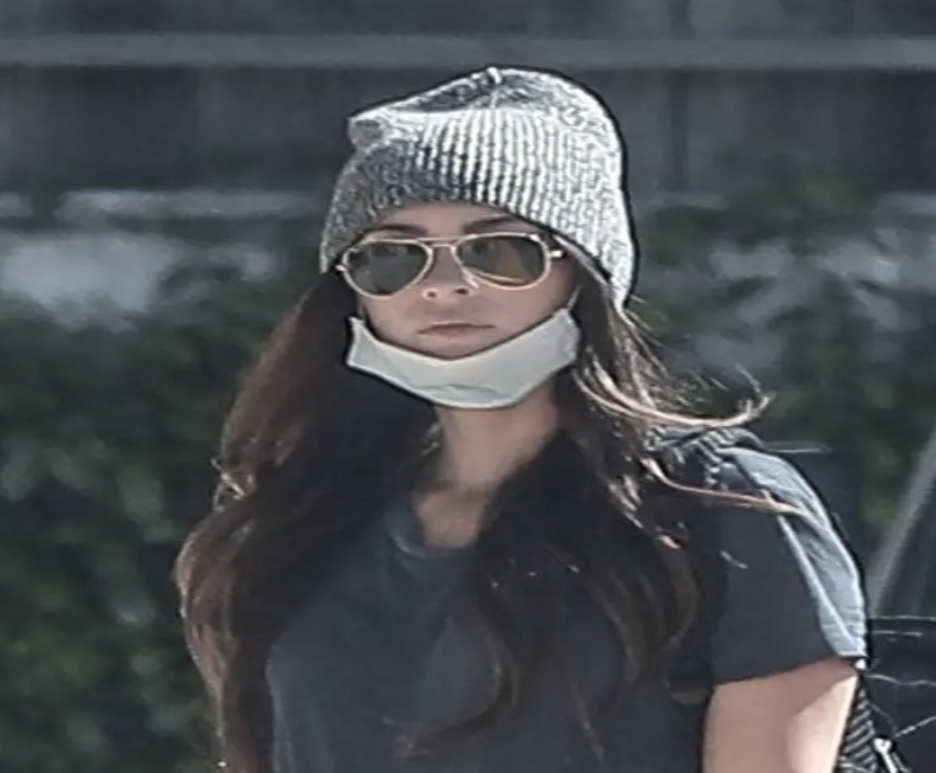mask_weared_incorrect: (320, 70, 634, 416)
